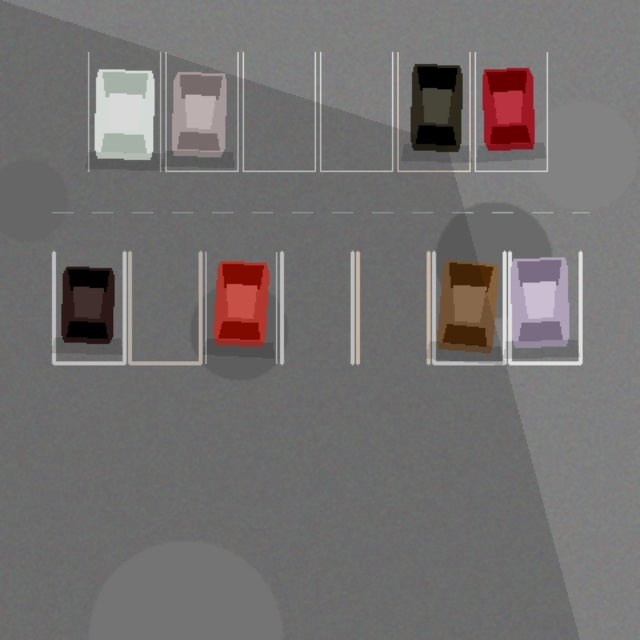space-empty: (243, 52, 315, 171), (320, 52, 392, 171), (129, 252, 200, 363), (281, 252, 352, 363), (357, 252, 428, 363)
space-occupied: (88, 52, 160, 171), (165, 52, 237, 171), (397, 52, 469, 171), (475, 52, 547, 171), (53, 252, 124, 363), (205, 252, 276, 363), (433, 252, 504, 363), (509, 252, 580, 363)
